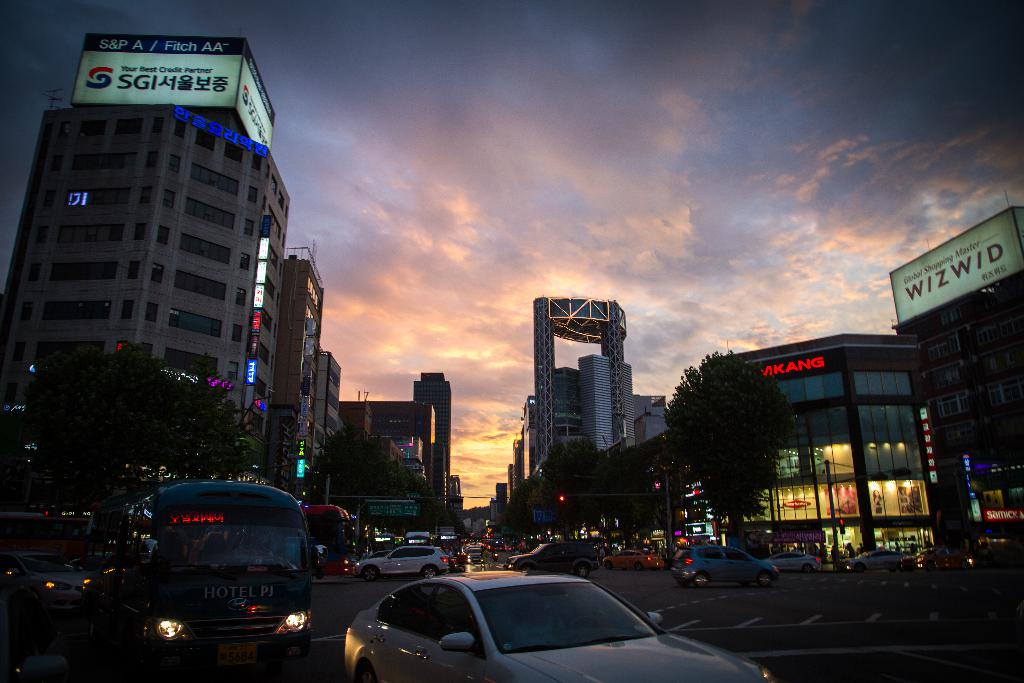Car: (337, 574, 686, 677), (351, 532, 978, 583), (0, 551, 88, 615), (127, 538, 156, 572)
